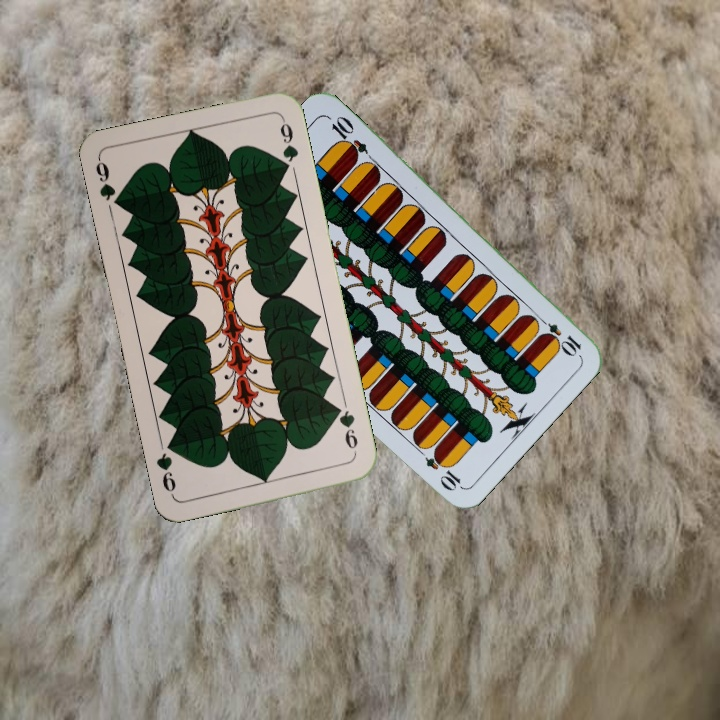E10: (532, 312, 584, 358)
G9: (91, 155, 125, 211), (331, 401, 360, 458)
